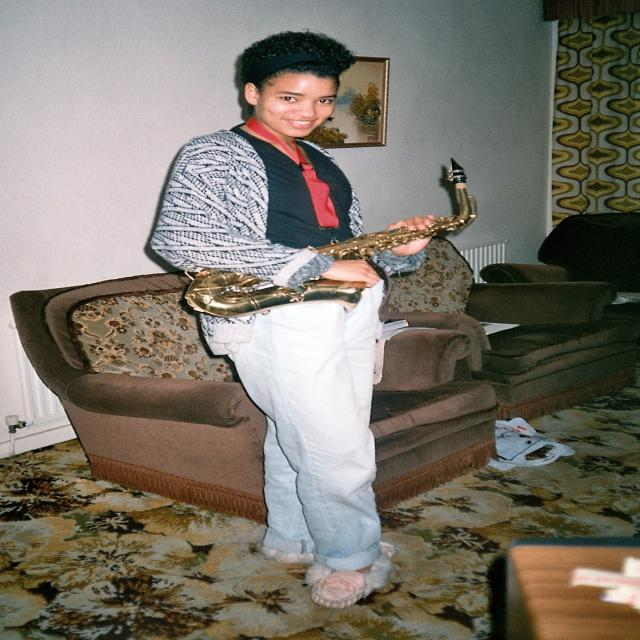saxophone: (173, 160, 492, 322)
